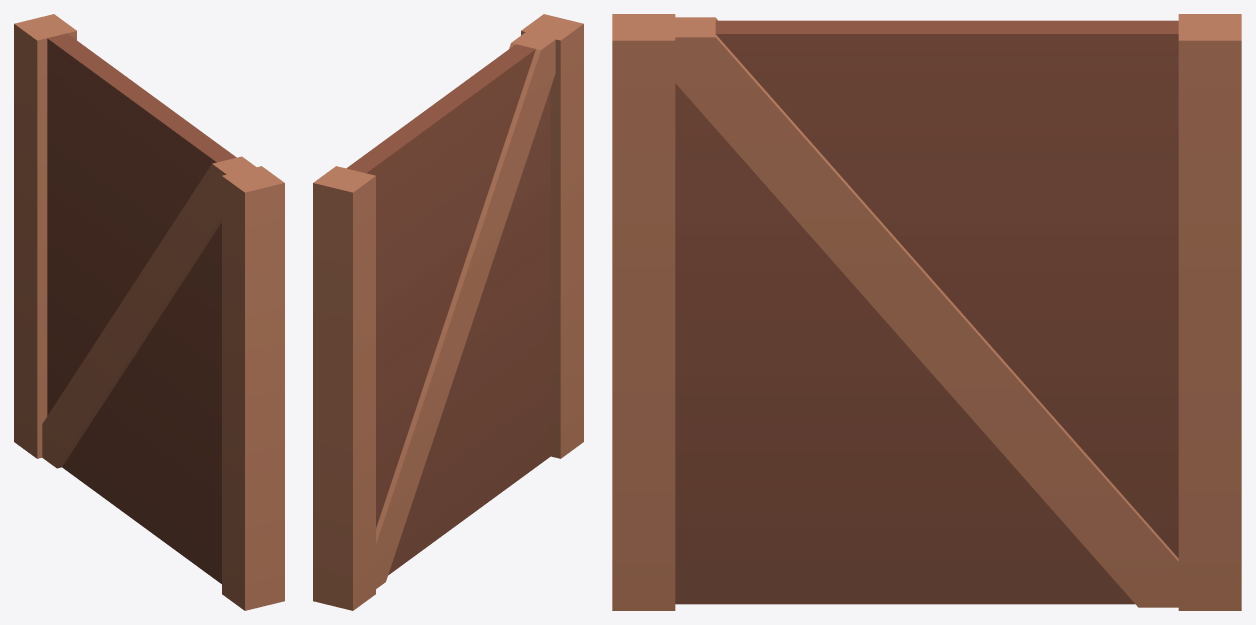
File: wall-wood-detail-diagonal.glb
3 views of the same model, side by side, from view 1: azimuth 30°, elevation 25°; view 2: azimuth 150°, elevation 25°; view 3: azimuth 270°, elevation 25° (orthographic). The views are drawn at different scales.
Visible parts, largest first — view 1: wall-wood-detail-diagonal; view 2: wall-wood-detail-diagonal; view 3: wall-wood-detail-diagonal.
Boxes of the visible parts, left/top/right/bottom form: wall-wood-detail-diagonal: left=14, top=14, right=284, bottom=610; wall-wood-detail-diagonal: left=313, top=14, right=583, bottom=610; wall-wood-detail-diagonal: left=612, top=14, right=1241, bottom=610.
Size of the model in its own units: 0.1 by 1 by 1.
1 material, 1 textured.
